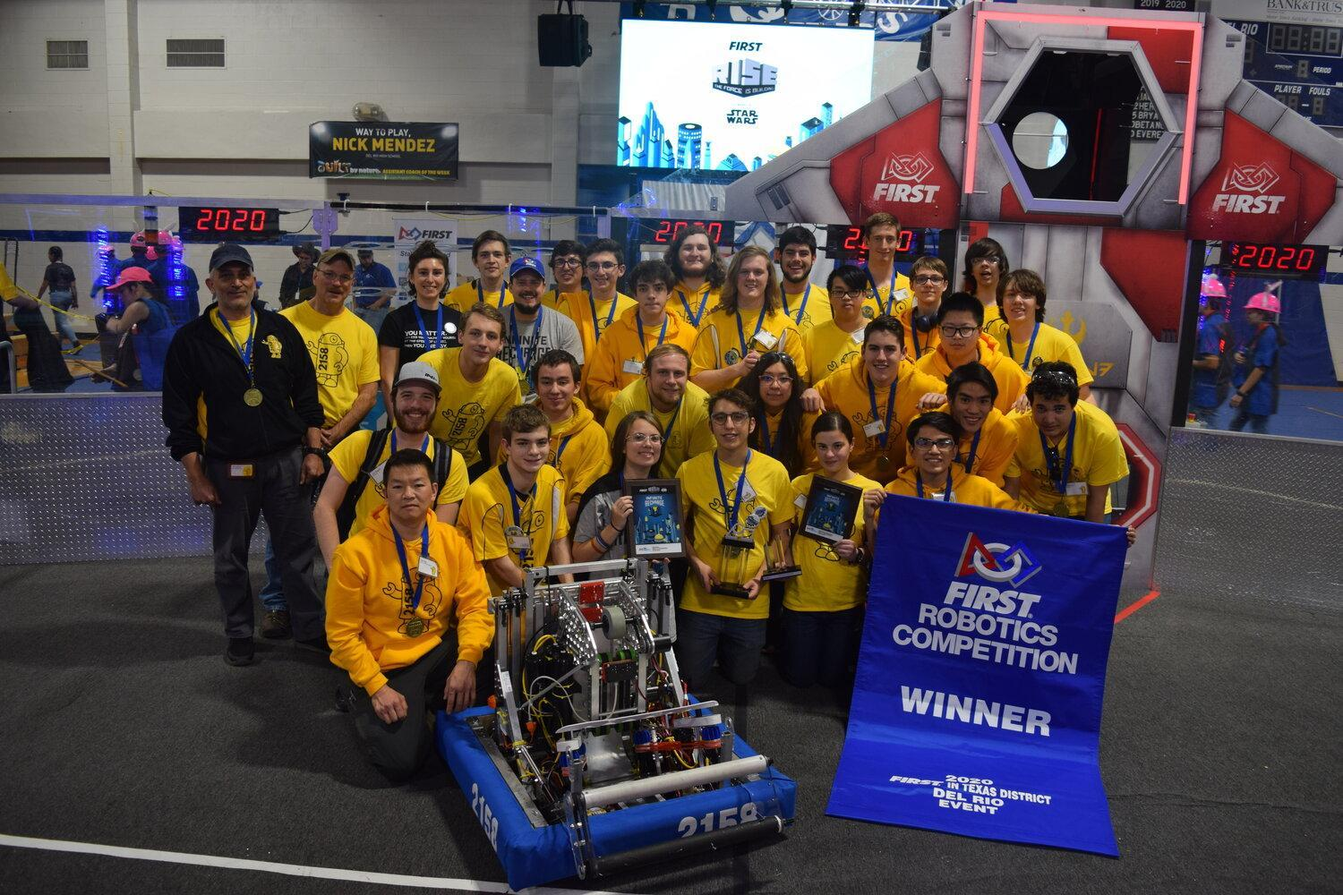robot: (434, 545, 805, 895)
